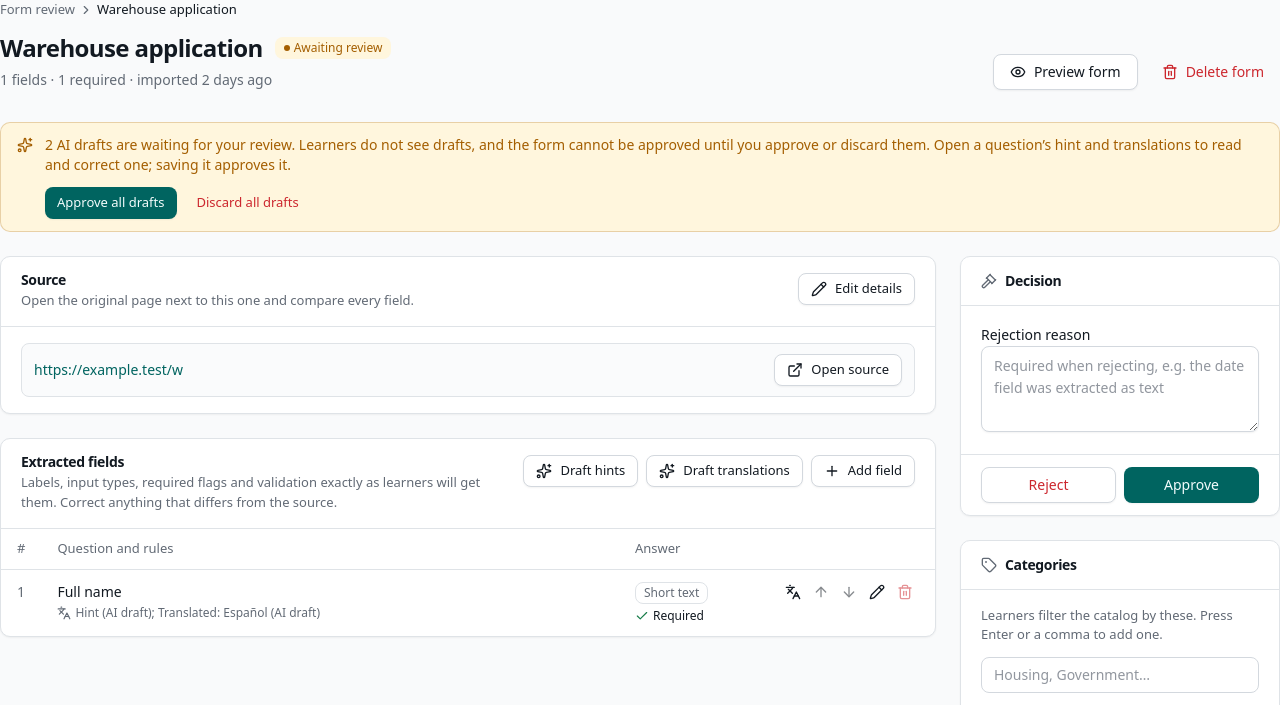
Test case: AI drafts › the editor marks AI drafts and says saving approves them
The image size is (1280, 705).
Click the button named "Hint and translations for Full name". click: (793, 592)
box: [779,578,807,606]
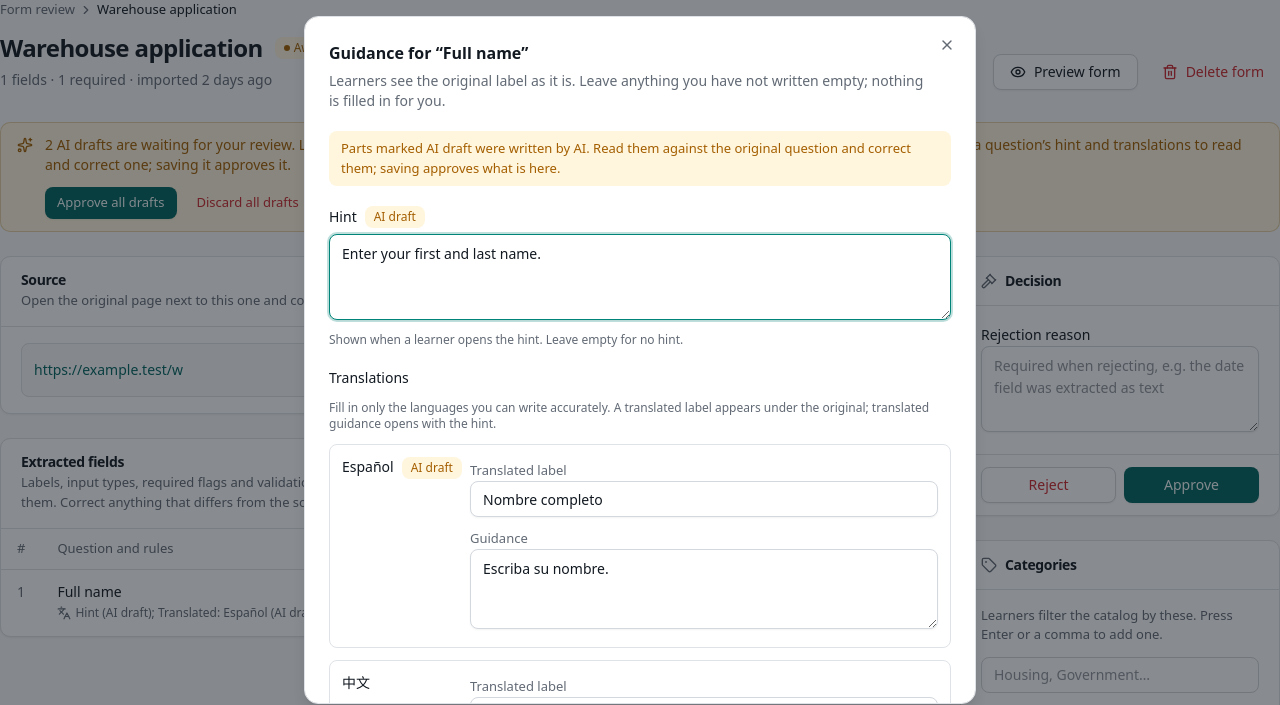
Now the text "saving approves what is here" is shown, box [341,139,911,176]
Now the text "AI draft" is shown 2 times, box [365,206,425,228]; [402,457,462,479]
Now the text box labelled "Hint AI draft" holds "Enter your first and last name.", box [329,234,951,320]
